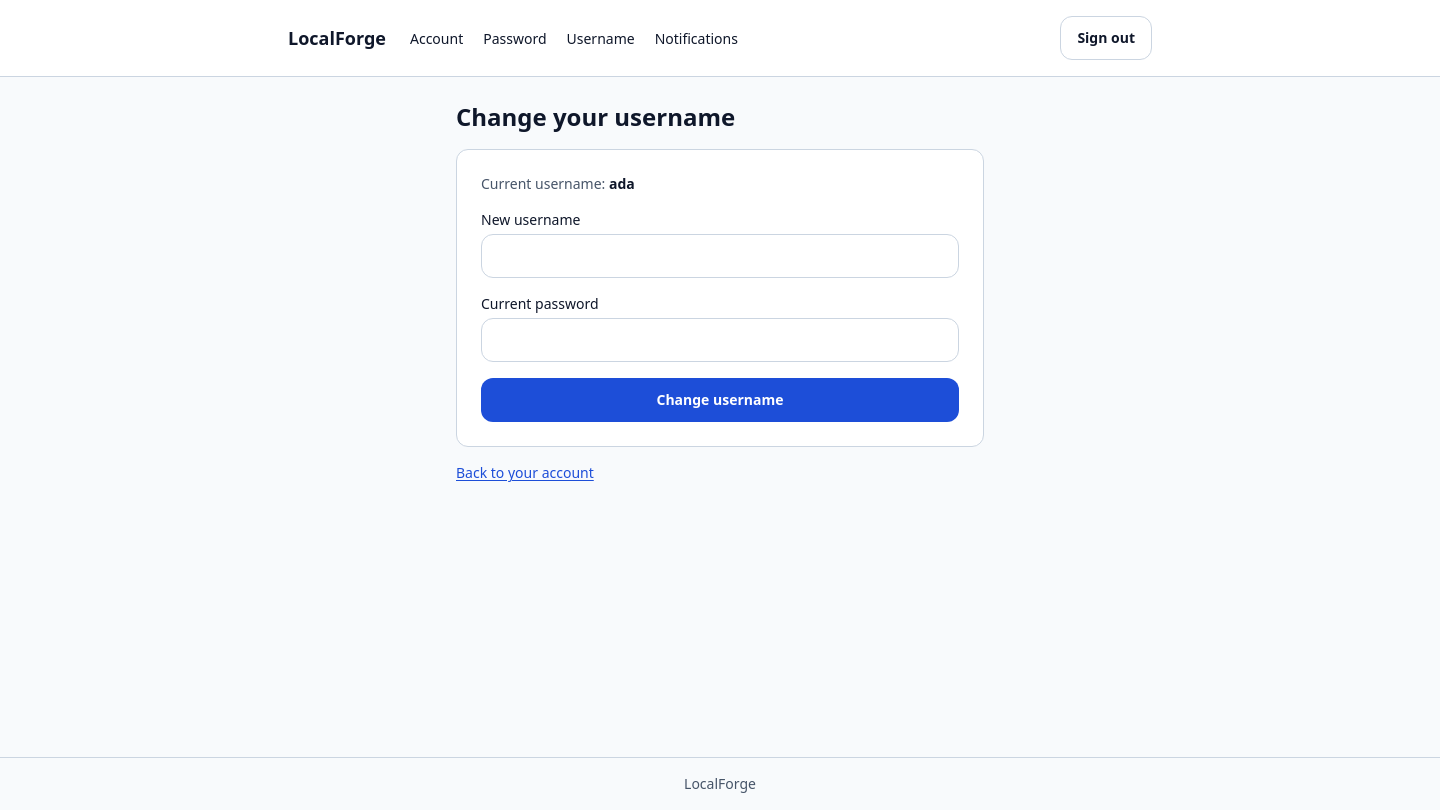
ChangeUsernamePage › explains empty fields without sending a request
Click the button "Change username": (720, 400) [481,378,959,422]
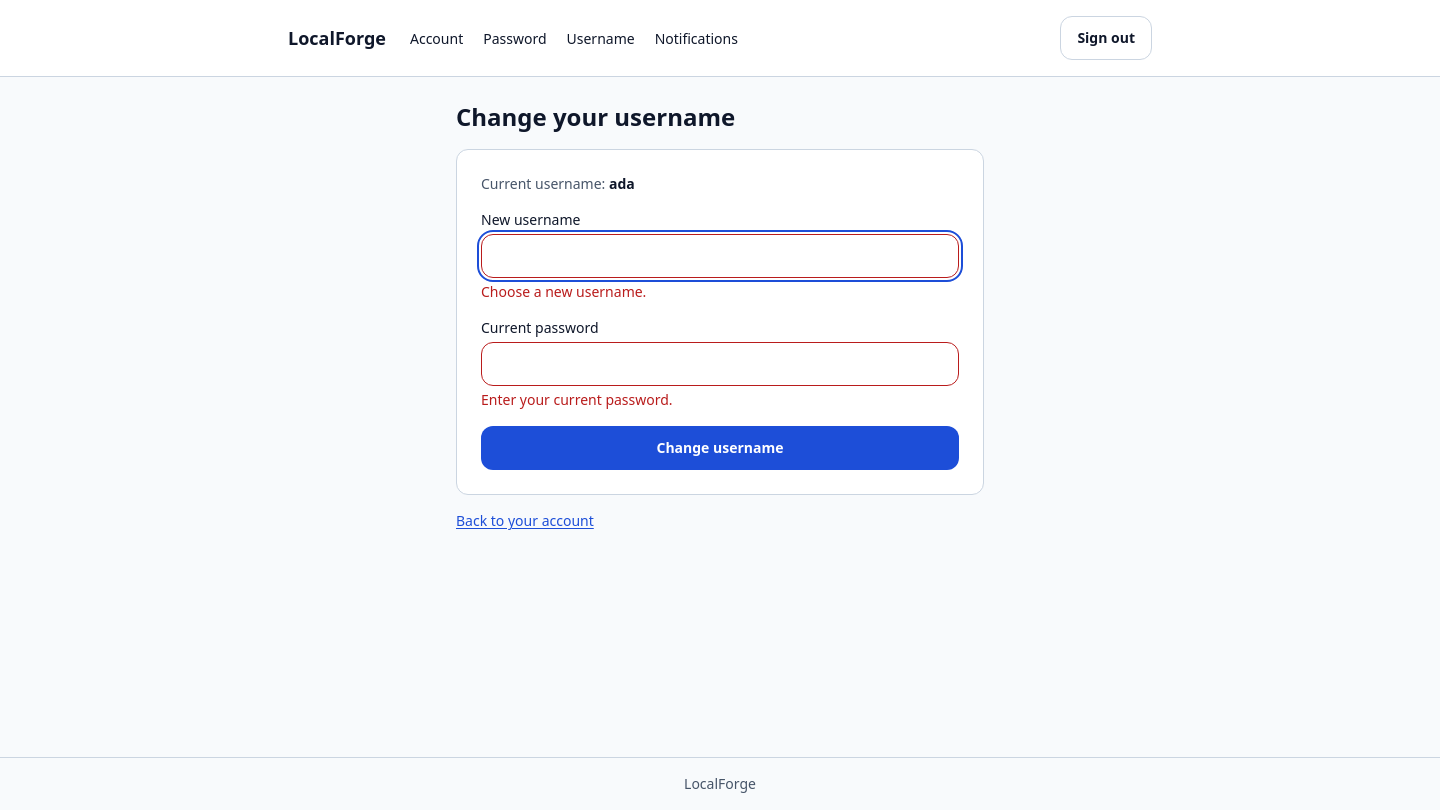
Expected: the text "Choose a new username." is shown, [480,281,646,301]
Expected: the text "Enter your current password." is shown, [480,389,673,409]
